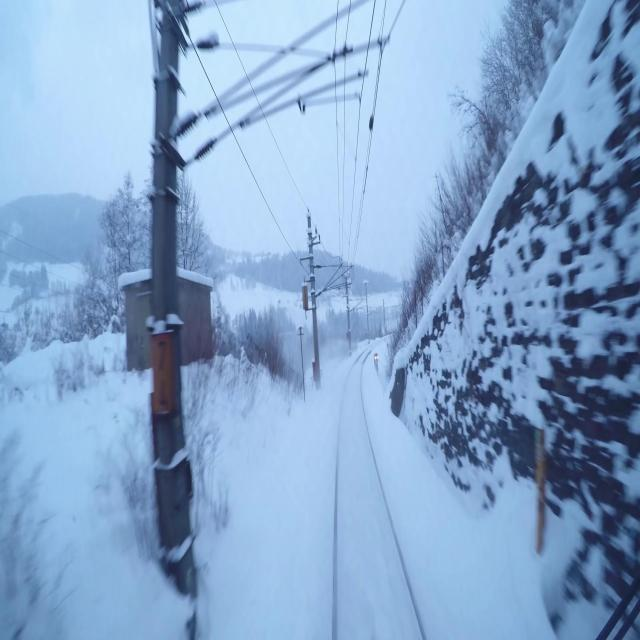rail-track: (336, 354, 421, 639)
